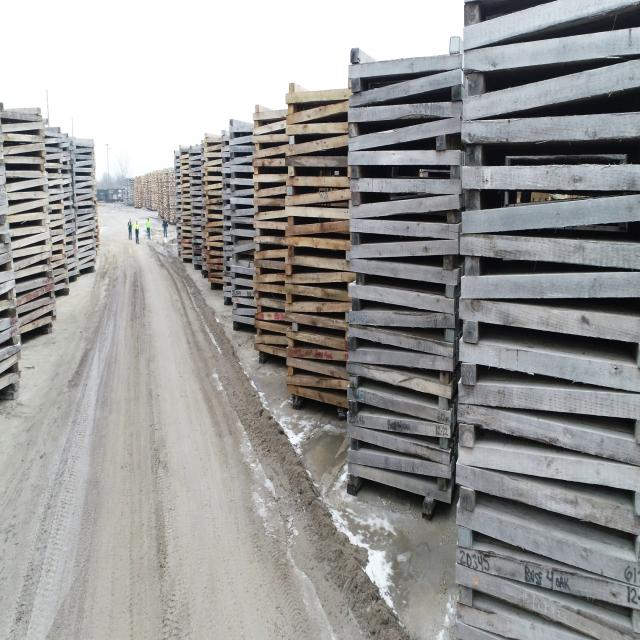stack: (339, 36, 464, 526)
